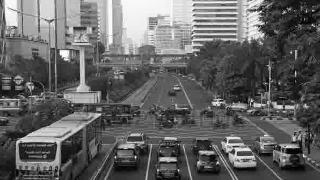mobil: (276, 142, 306, 172), (232, 146, 258, 172), (114, 146, 138, 170), (154, 157, 179, 180), (196, 150, 218, 176), (252, 134, 276, 156), (126, 132, 148, 154), (221, 134, 243, 154), (190, 136, 210, 154)
